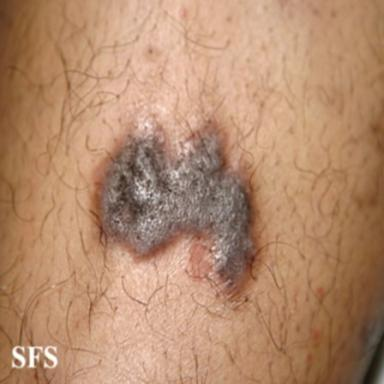lichen: (101, 119, 254, 298)
